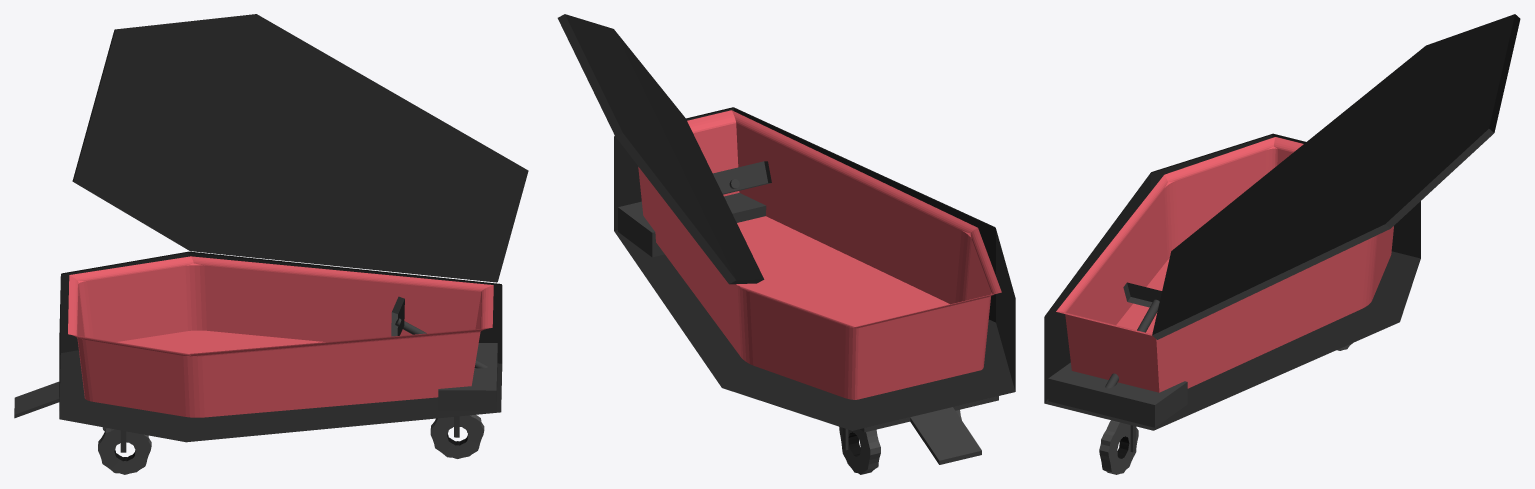
The model's file is coffinstone.gltf.
3 views of the same model, side by side, from view 1: azimuth 30°, elevation 25°; view 2: azimuth 150°, elevation 25°; view 3: azimuth 270°, elevation 25° (orthographic). The views are drawn at different scales.
Visible parts, largest first — view 1: Cylinder.019; view 2: Cylinder.019; view 3: Cylinder.019.
Boxes of the visible parts, x1,y1,x2,y2 form: Cylinder.019: (14, 14, 528, 474); Cylinder.019: (557, 14, 1015, 474); Cylinder.019: (1044, 14, 1520, 474).
Bounding box in the file's own units: 11.14 × 8.73 × 9.59.
